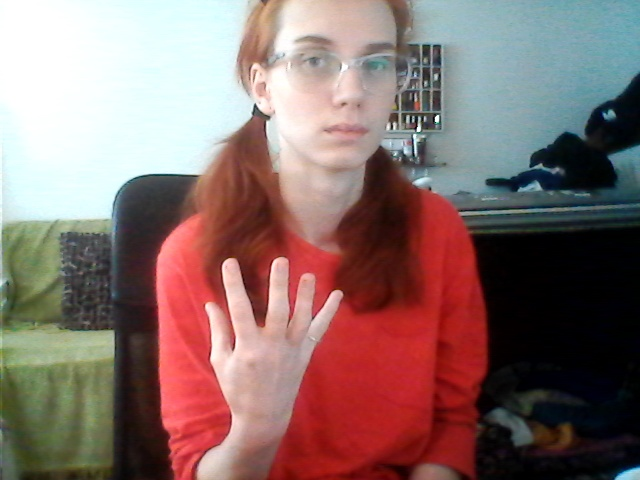kedy: (198, 248, 348, 420)
